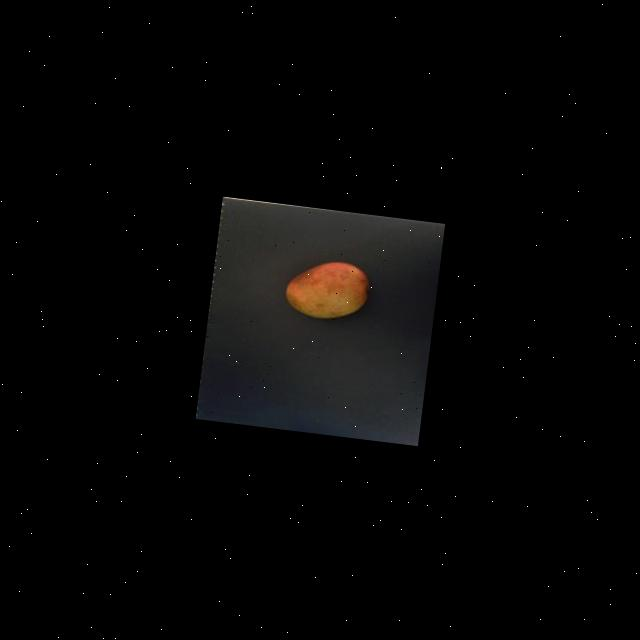Mango: (282, 254, 372, 324)
